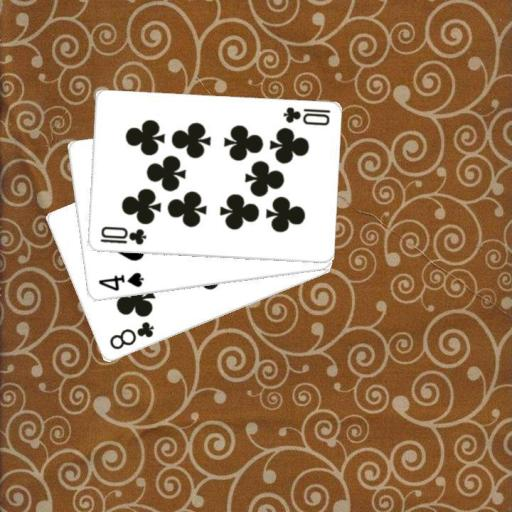10C: (280, 104, 332, 128), (97, 223, 147, 247)
4S: (95, 269, 145, 293)
8C: (106, 319, 156, 351)
